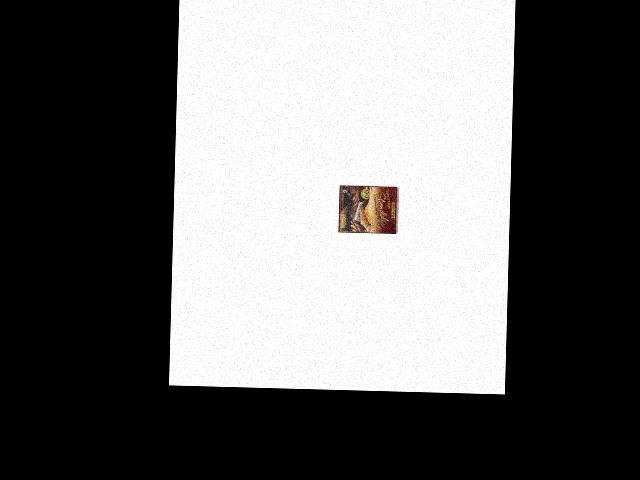chocolate: (338, 185, 399, 233)
